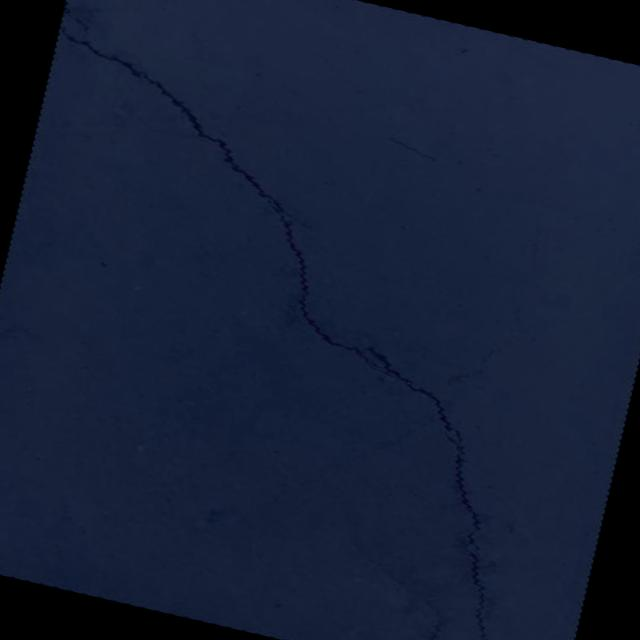crack: (0, 1, 640, 640), (325, 543, 478, 640), (515, 202, 614, 308), (509, 304, 528, 340)
